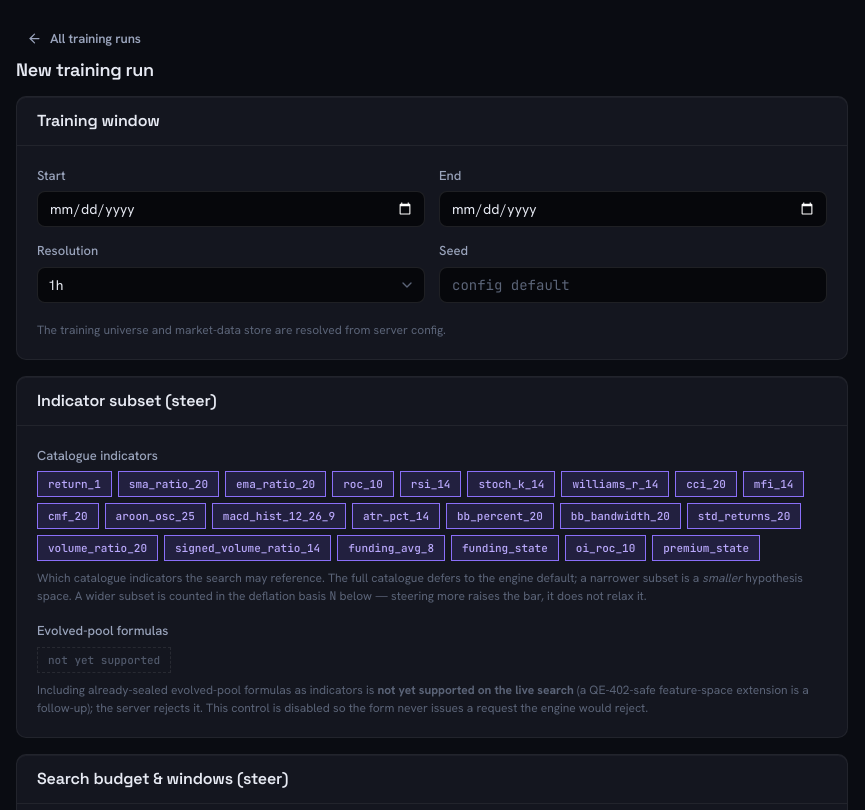
NewTraining › surfaces a server 400 inline and does not navigate
Step 1. Type "2021-01-01" into the date field labelled "Start" → (231, 209), box x1=48 y1=192 x2=414 y2=226
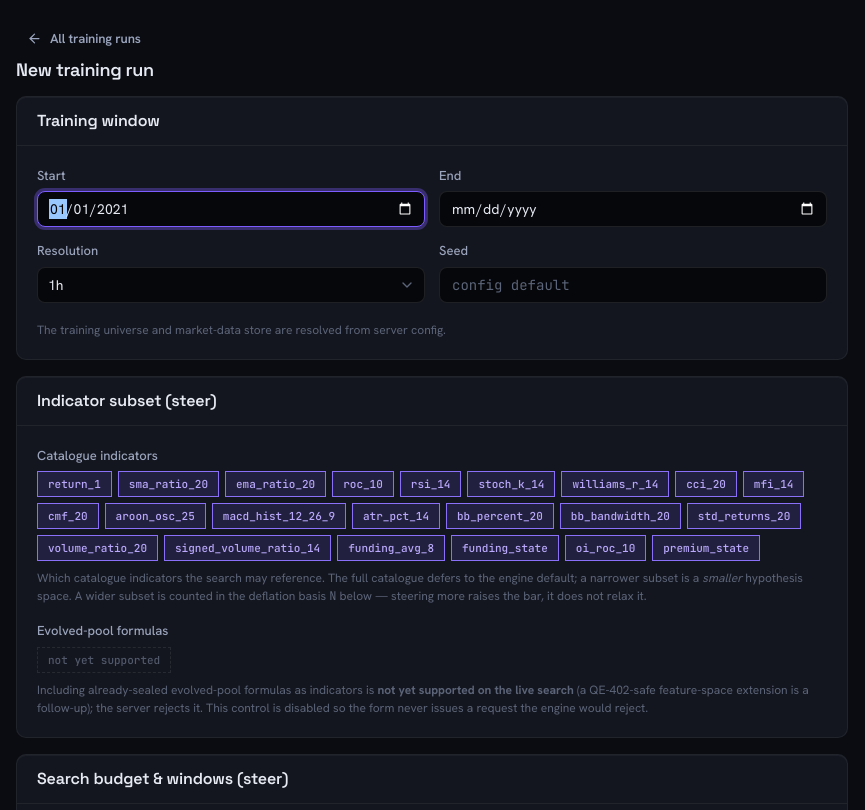
Step 2. Type "2021-02-01" into the date field labelled "End" → (633, 209), box x1=450 y1=192 x2=816 y2=226
(page scrolled)
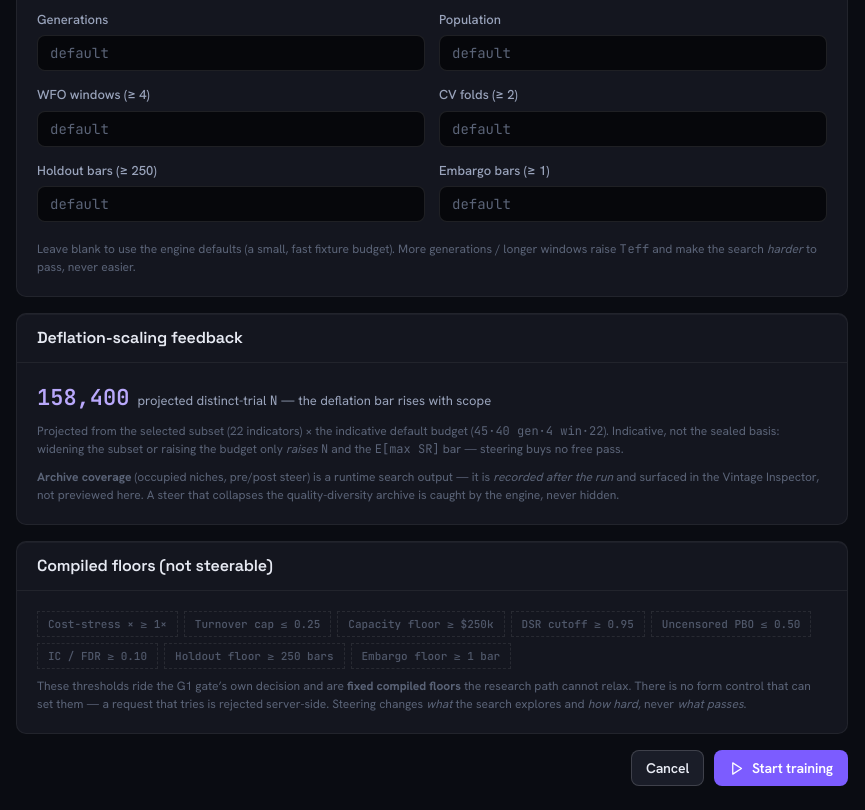
Step 3. Click the button "Start training" → (781, 768), box x1=714 y1=750 x2=848 y2=786
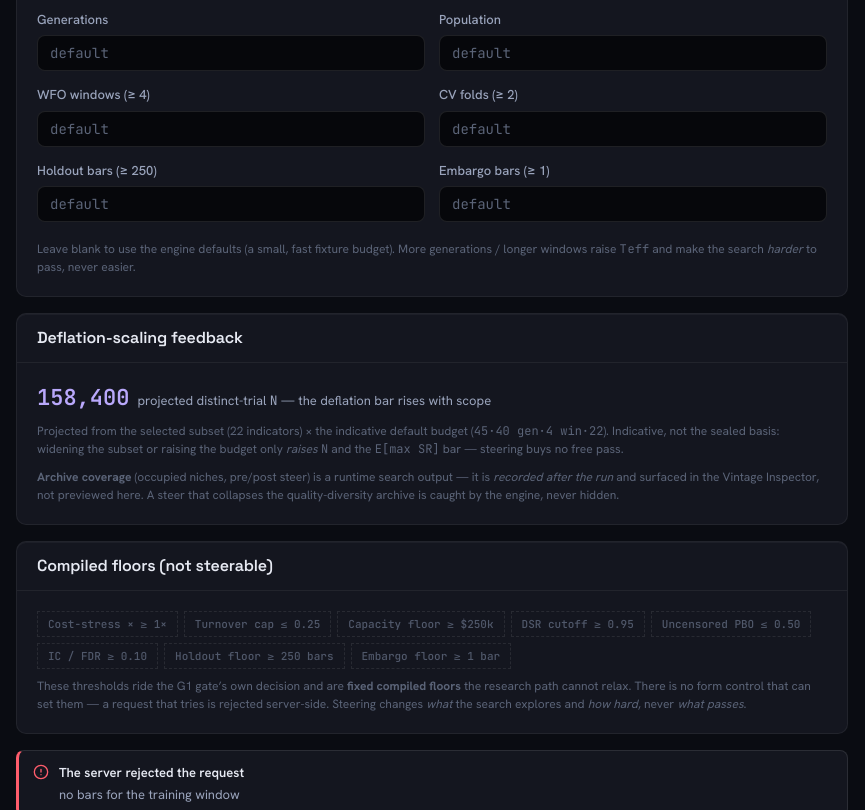
Check: the text "no bars for the training window" is shown, box x1=59 y1=786 x2=240 y2=803
